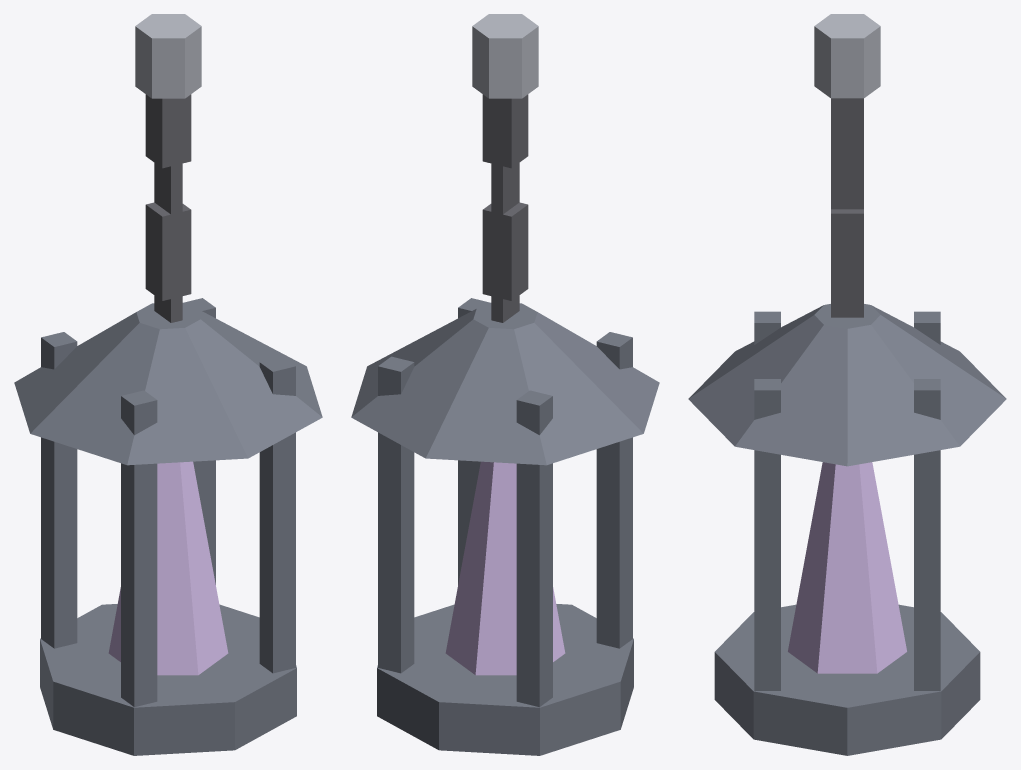
The model's file is PR_Lanterna_Cabo.fbx.
The picture shows the model from 3 angles, left to right: view 1: azimuth 30°, elevation 25°; view 2: azimuth 150°, elevation 25°; view 3: azimuth 270°, elevation 25°; orthographic projection.
Visible parts, largest first — view 1: PR_Lanterna_Cabo; view 2: PR_Lanterna_Cabo; view 3: PR_Lanterna_Cabo.
Boxes of the visible parts, box(x1,y1,x2,y2) form: PR_Lanterna_Cabo: box(14, 14, 322, 755); PR_Lanterna_Cabo: box(351, 14, 659, 755); PR_Lanterna_Cabo: box(688, 14, 1006, 755).
Size of the model in its own units: 0.48 by 1.12 by 0.48.
